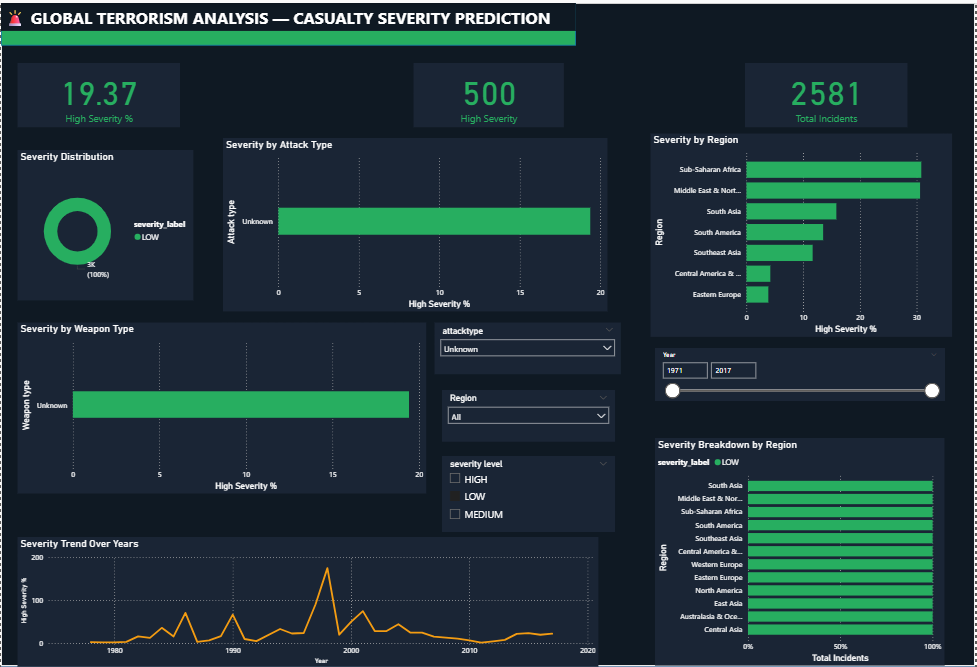

The dashboard page shown, as its layout file describes it:
{"tool":"powerbi","page":{"name":"Casualty Severity","canvas":[1605,1100],"ordinal":4},"visuals":[{"type":"shape","box":[0,0,1606,1094],"z":1000},{"type":"shape","box":[0,0,948,70],"z":1250},{"type":"textbox","box":[0,0,948,46],"z":1500},{"type":"card","fields":{"Values":["Global Terrorism Data.High Severity %"]},"box":[28,100,268,106],"z":2000},{"type":"card","fields":{"Values":["Global Terrorism Data.High Severity"]},"box":[680,100,248,106],"z":3000},{"type":"card","fields":{"Values":["Global Terrorism Data.Total Incidents"]},"box":[1228,100,268,106],"z":4000},{"type":"donutChart","title":"Severity Distribution","fields":{"Category":["Global Terrorism Data.severity_label"],"Y":["Global Terrorism Data.Total Incidents"]},"box":[28,242,290,248],"z":5000},{"type":"clusteredBarChart","title":" Severity by Attack Type","fields":{"Category":["Global Terrorism Data.attacktype1_txt"],"Y":["Global Terrorism Data.High Severity %"]},"box":[366,222,634,286],"z":6000},{"type":"clusteredBarChart","title":" Severity by Region","fields":{"Category":["Global Terrorism Data.region_txt"],"Y":["Global Terrorism Data.High Severity %"]},"box":[1070,215,497.5,335],"z":7000},{"type":"clusteredBarChart","title":" Severity by Weapon Type","fields":{"Category":["Global Terrorism Data.weaptype1_txt"],"Y":["Global Terrorism Data.High Severity %"]},"box":[28,528,674,282],"z":8000},{"type":"lineChart","title":" Severity Trend Over Years","fields":{"Category":["Global Terrorism Data.iyear"],"Y":["Global Terrorism Data.High Severity %"]},"box":[28,880,958,214],"z":9000},{"type":"hundredPercentStackedBarChart","title":" Severity Breakdown by Region","fields":{"Category":["Global Terrorism Data.region_txt"],"Y":["Global Terrorism Data.Total Incidents"],"Series":["Global Terrorism Data.severity_label"]},"box":[1077.5,717.5,477.5,375],"z":10000},{"type":"slicer","fields":{"Values":["Global Terrorism Data.iyear"]},"box":[1077.5,570,477.5,87.5],"z":11000},{"type":"slicer","fields":{"Values":["Global Terrorism Data.region_txt"]},"box":[727.5,637.5,285,85],"z":12000},{"type":"slicer","fields":{"Values":["Global Terrorism Data.severity_label"]},"box":[727.5,747.5,285,125],"z":13000},{"type":"slicer","fields":{"Values":["Global Terrorism Data.attacktype1_txt"]},"box":[715,527.5,307.5,85],"z":14000}]}

Visuals, with their boxes in screenshot pixels (x1, y1, x2, y2), scaled from the page's 1605x1100 canvas onto the 977x667 screenshot:
shape: 0, 0, 976, 663
shape: 0, 0, 577, 42
textbox: 0, 0, 577, 28
card - Global Terrorism Data.High Severity %: 17, 61, 180, 125
card - Global Terrorism Data.High Severity: 414, 61, 565, 125
card - Global Terrorism Data.Total Incidents: 748, 61, 911, 125
"Severity Distribution" donutChart: 17, 147, 194, 297
" Severity by Attack Type" clusteredBarChart: 223, 135, 609, 308
" Severity by Region" clusteredBarChart: 651, 130, 954, 334
" Severity by Weapon Type" clusteredBarChart: 17, 320, 427, 491
" Severity Trend Over Years" lineChart: 17, 534, 600, 663
" Severity Breakdown by Region" hundredPercentStackedBarChart: 656, 435, 947, 662
slicer - Global Terrorism Data.iyear: 656, 346, 947, 399
slicer - Global Terrorism Data.region_txt: 443, 387, 616, 438
slicer - Global Terrorism Data.severity_label: 443, 453, 616, 529
slicer - Global Terrorism Data.attacktype1_txt: 435, 320, 622, 371
